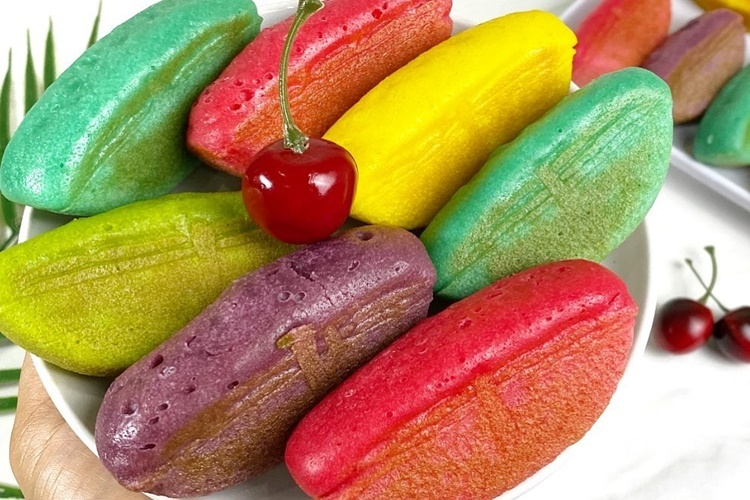pukis: (418, 77, 696, 287)
